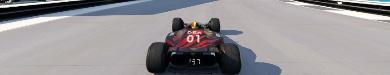Car: (145, 17, 241, 74)
